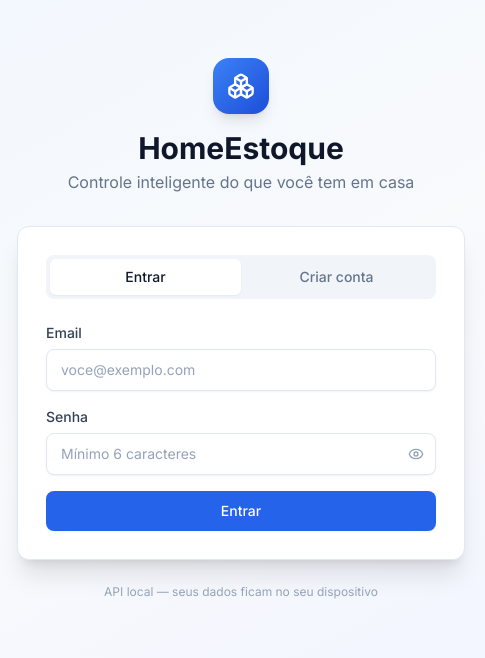
Test: Login — modo toggle › clicar em 'Criar conta' mostra campo Nome
The image size is (485, 658).
Click the button "Criar conta" at (336, 277), box x1=241 y1=259 x2=432 y2=295
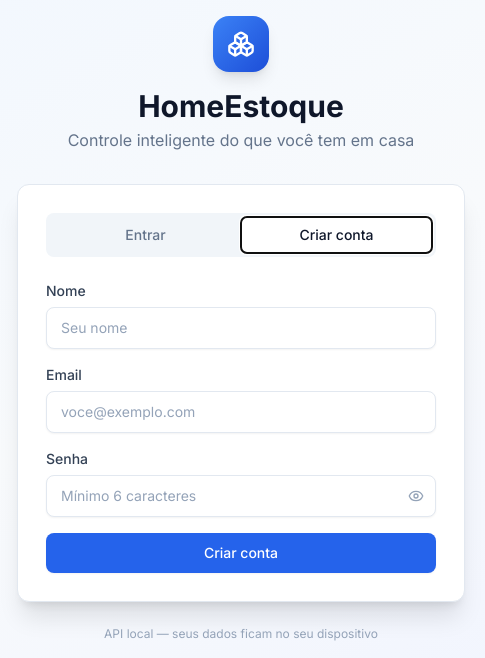
Check: the field with placeholder "Seu nome" is shown, box x1=46 y1=307 x2=436 y2=349
